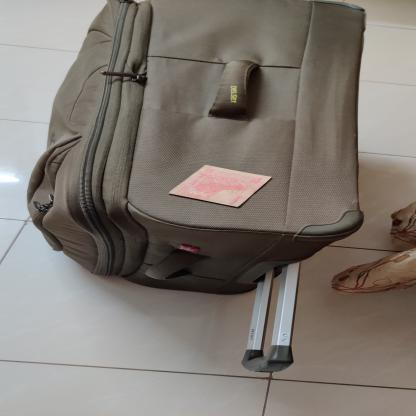Old20Back: (168, 165, 273, 207)
